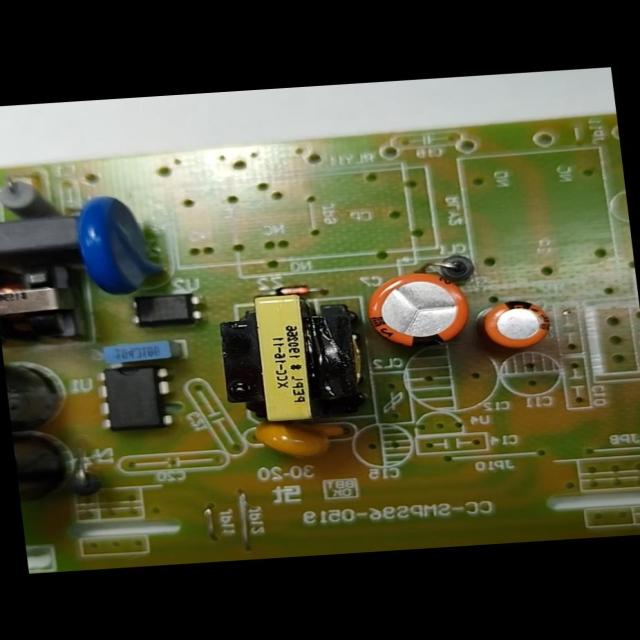Cap1: (351, 264, 485, 354)
Cap2: (473, 290, 566, 360)
Cap3: (3, 348, 76, 438)
Cap4: (12, 425, 80, 508)
MOSFET: (90, 354, 186, 441)
Mov: (69, 188, 169, 302)
Resistor: (0, 170, 62, 226)
Transformer: (204, 284, 388, 434), (0, 252, 101, 355)
